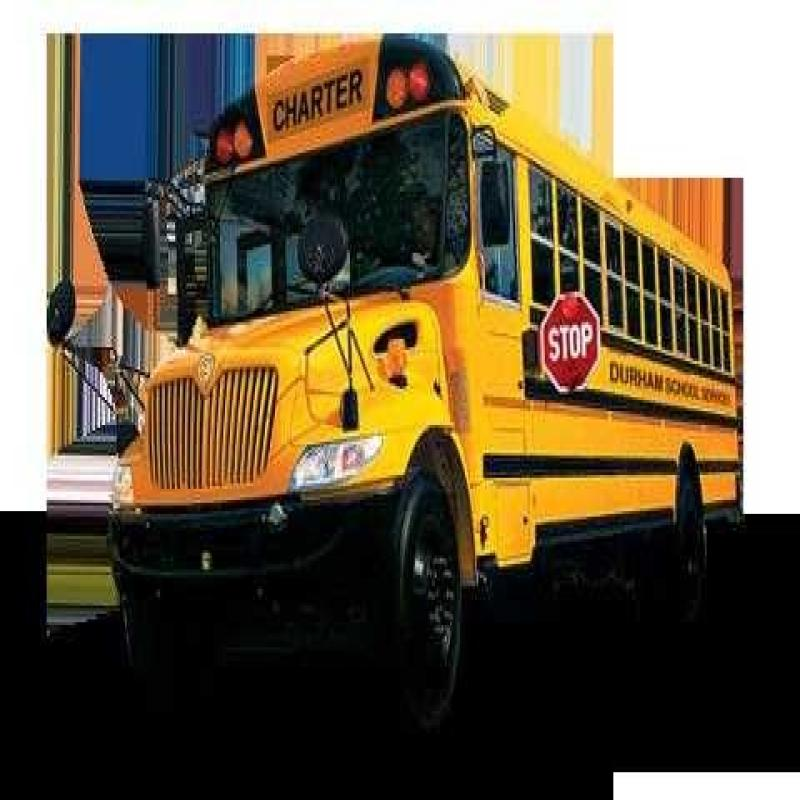bus: (113, 66, 759, 652)
